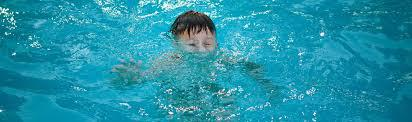drowning: (112, 1, 283, 105)
